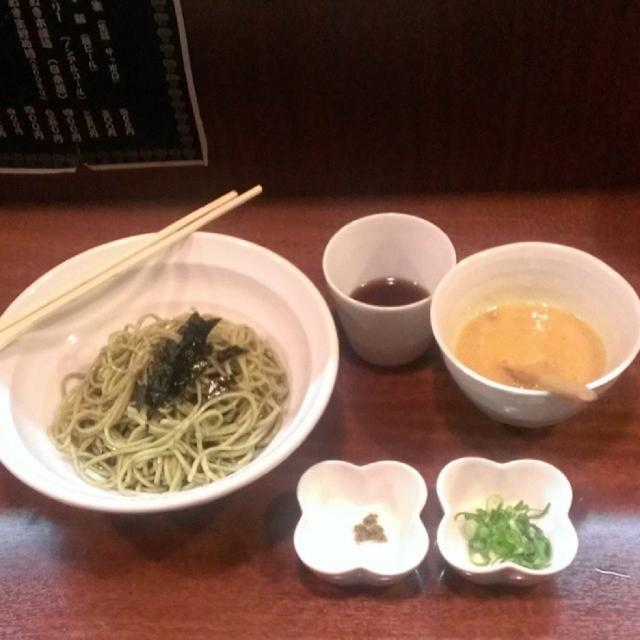Tea: (350, 275, 432, 304)
